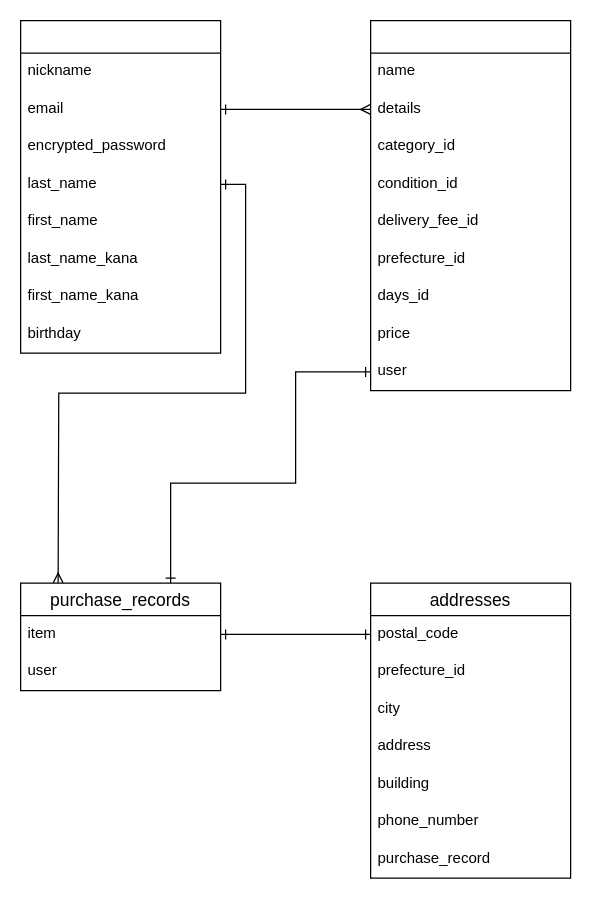
The diagram is 591 pixels wide and 899 high, and some of its shapes have lost their labels. The shapes that lost their labels are listed below. From the top down, each one's box as (x1, y1, x2, y2) in pixels, then its label:
(19, 19, 221, 353): users
(369, 19, 571, 391): items
